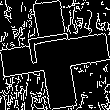L_E: (27, 36, 83, 74)
